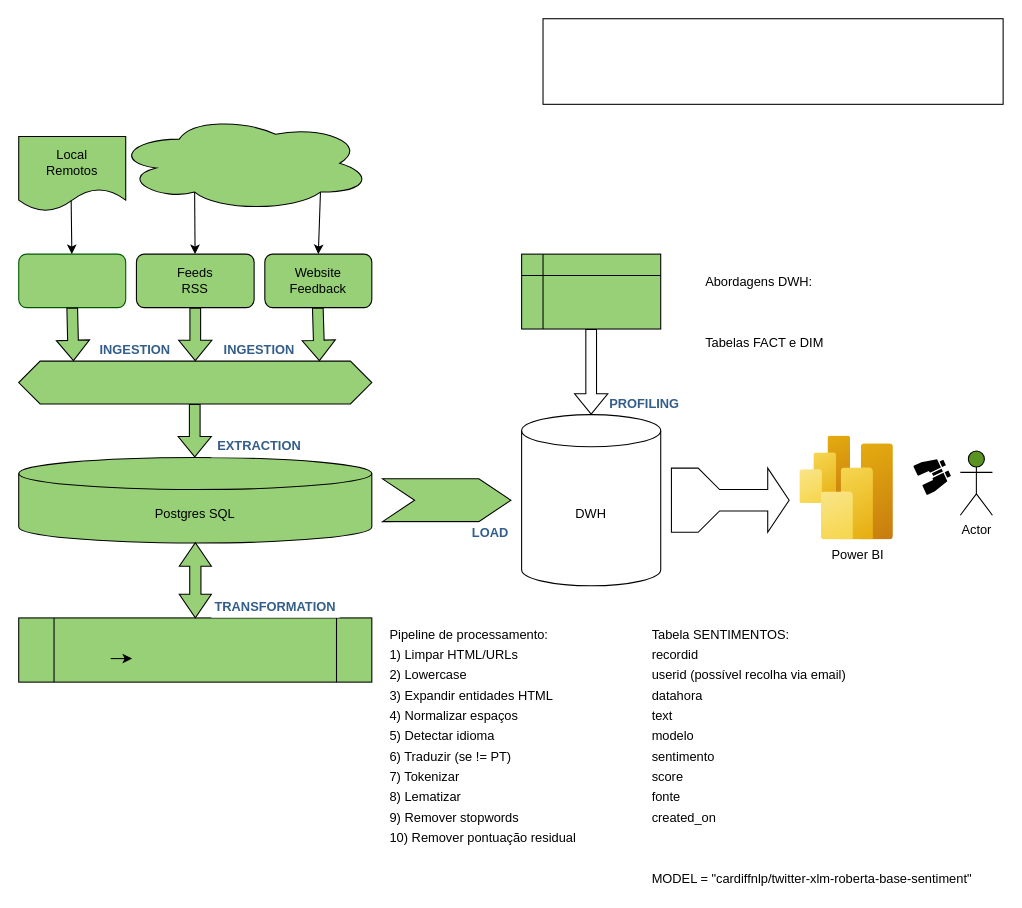
Some shapes in this 1022 by 908 pixel diagram are drawn without their labels. Each missing label, with the box of its shape:
DIAGRAMA ARQUITECTURA SISTEMA: (542, 18, 1003, 104)
ERP/CRM Vendas Users: (521, 253, 661, 329)
Ficheiros CSVs: (18, 253, 126, 308)
Internet: (114, 114, 372, 211)
MongoDB: (18, 360, 372, 404)
Processamento LN Análise Sentimentos: (18, 617, 372, 682)
REPORTING: (670, 467, 789, 532)
